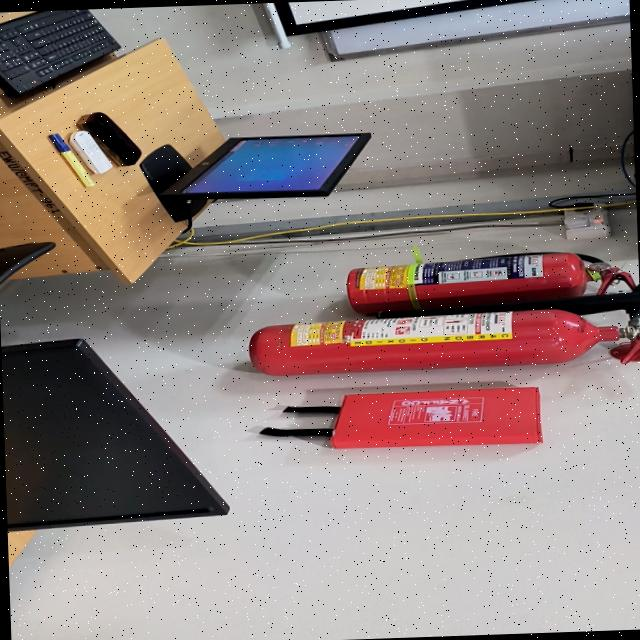Chair: (0, 241, 56, 284)
Fire Extinguisher: (249, 308, 640, 374), (347, 251, 596, 312)
Keyboard: (0, 8, 120, 92)
Monitor: (1, 337, 229, 530), (140, 131, 370, 220)
